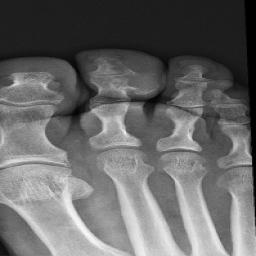cancer: (98, 66, 159, 96)
